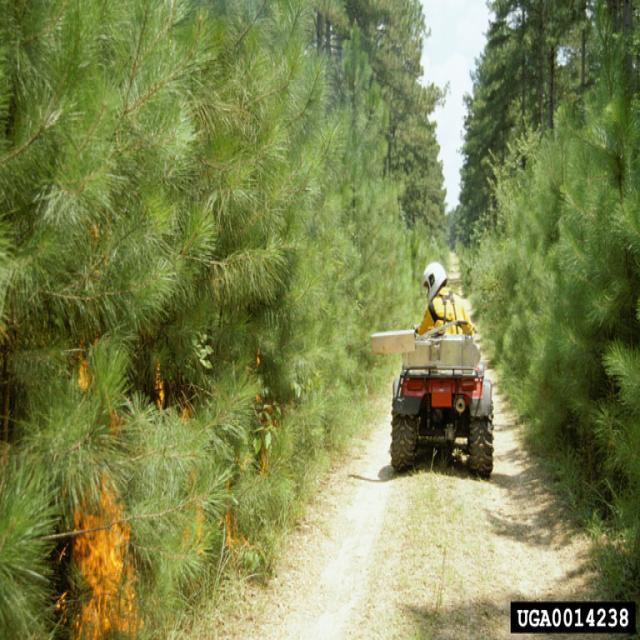Fire: (56, 466, 146, 640)
